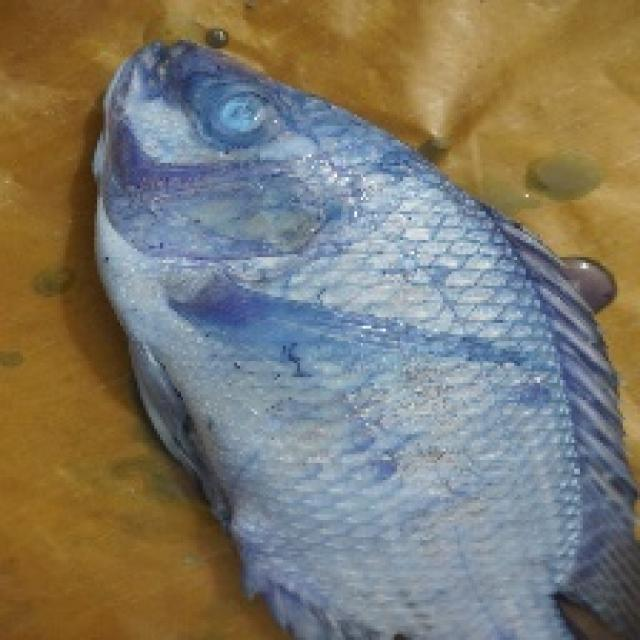Non-Fresh: (85, 31, 604, 597), (199, 80, 293, 169)
